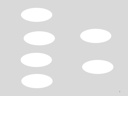round: (18, 72, 57, 90), (20, 29, 57, 47), (78, 26, 112, 45), (19, 5, 54, 23), (80, 58, 115, 76), (18, 52, 54, 69)
